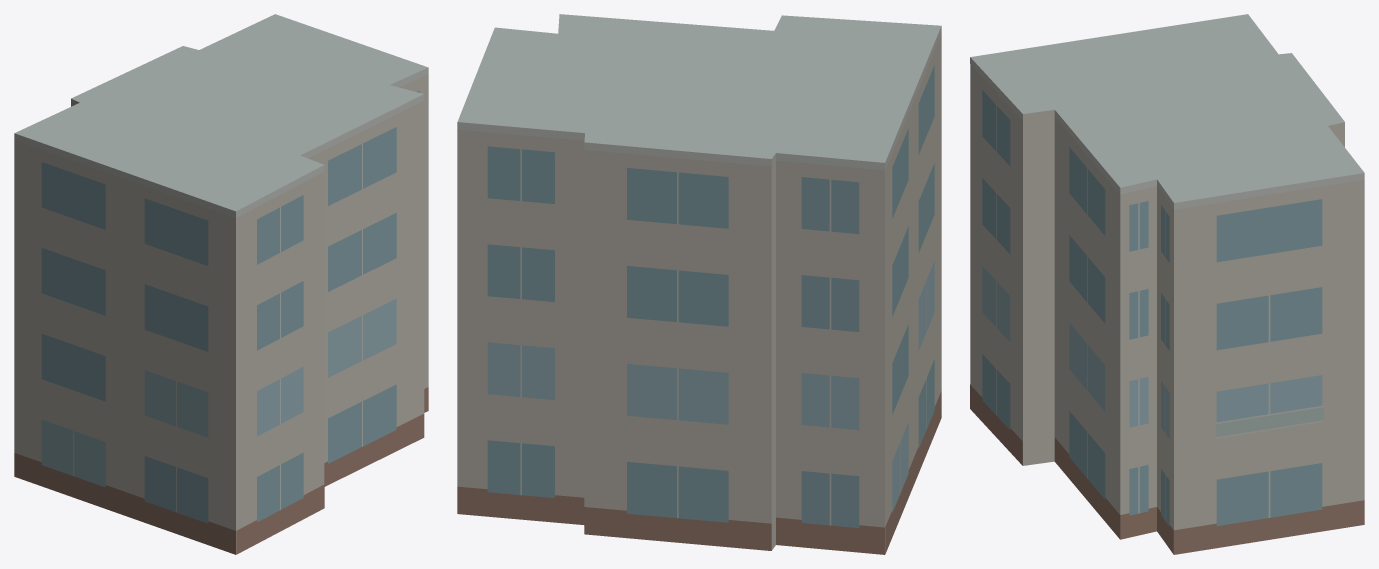
The model's file is survey-upis-32950878.glb.
3 renders of one model, left to right at view 1: azimuth 30°, elevation 25°; view 2: azimuth 150°, elevation 25°; view 3: azimuth 270°, elevation 25°, orthographic. The views are drawn at different scales.
Visible parts, largest first — view 1: survey-upis-32950878.tmp; view 2: survey-upis-32950878.tmp; view 3: survey-upis-32950878.tmp.
Boxes of the visible parts, x1,y1,x2,y2 form: survey-upis-32950878.tmp: (14, 14, 428, 554); survey-upis-32950878.tmp: (457, 14, 941, 554); survey-upis-32950878.tmp: (970, 14, 1364, 554).
Size of the model in its own units: 14.64 by 12.7 by 12.92.
